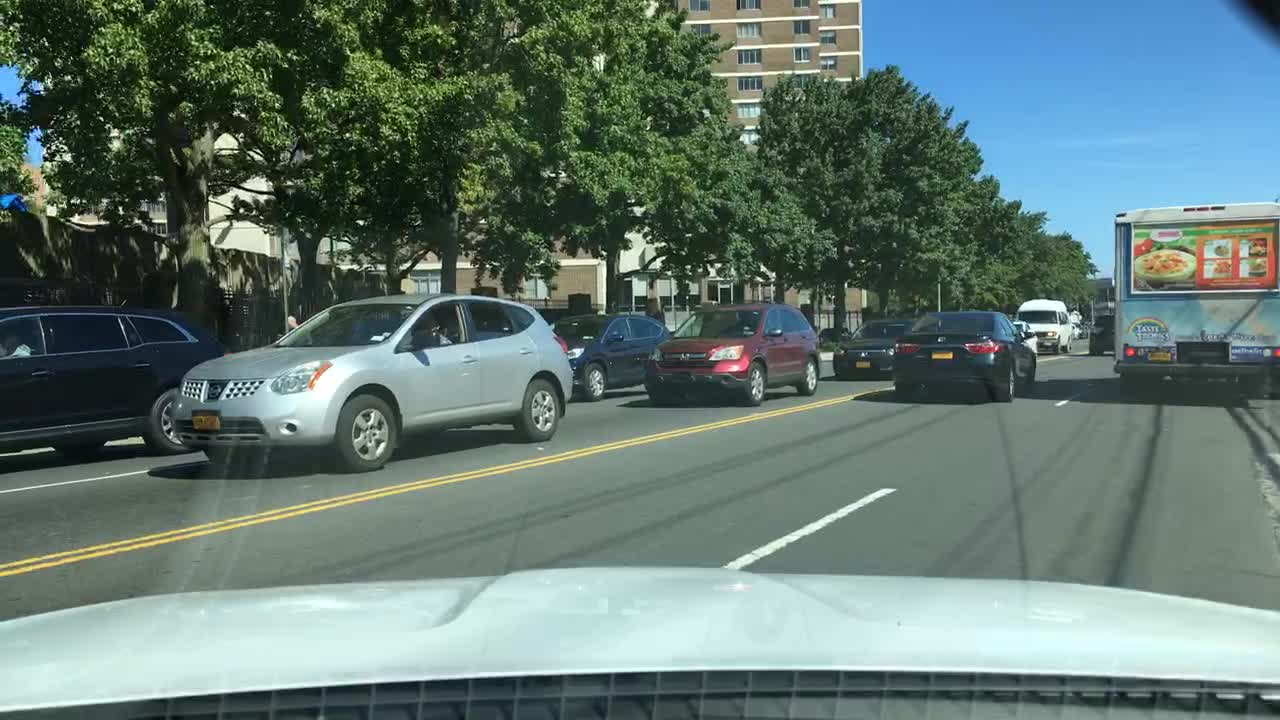bus: (1112, 199, 1278, 403)
car: (161, 285, 578, 475), (0, 300, 231, 455), (638, 297, 823, 408), (888, 305, 1041, 401), (547, 311, 673, 401), (829, 315, 914, 383), (1013, 297, 1075, 355), (1087, 313, 1115, 354), (1071, 321, 1088, 340)
